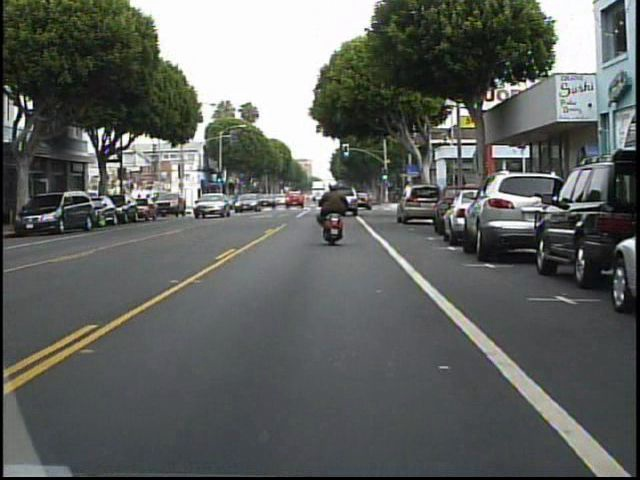person: (317, 176, 356, 246)
